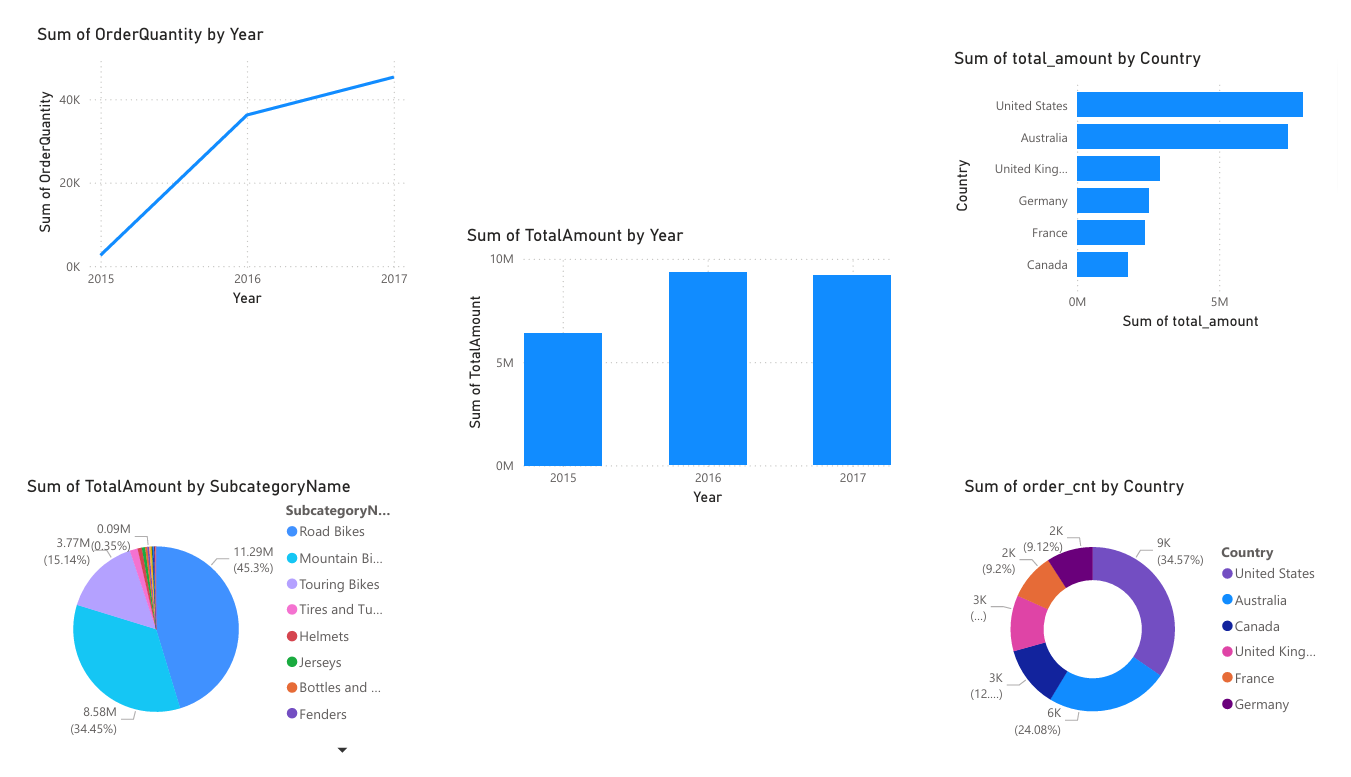

This screenshot's page, from the dashboard's own definition file:
{"tool":"powerbi","page":{"name":"Page 1","canvas":[1280,720],"ordinal":0},"visuals":[{"type":"lineChart","fields":{"Category":["gold extsales.OrderDate.Variation.Date Hierarchy.Year","gold extsales.OrderDate.Variation.Date Hierarchy.Quarter","gold extsales.OrderDate.Variation.Date Hierarchy.Month","gold extsales.OrderDate.Variation.Date Hierarchy.Day"],"Y":["Sum(gold extsales.OrderQuantity)"]},"box":[9.6,0,370.5,279.9],"z":0},{"type":"columnChart","fields":{"Category":["gold extsales.Year"],"Y":["Sum(gold extsales.TotalAmount)"]},"box":[428,195.7,423.1,278.8],"z":1},{"type":"pieChart","fields":{"Category":["gold extsales.SubcategoryName"],"Y":["Sum(gold extsales.TotalAmount)"]},"box":[0,440.5,370.5,279.9],"z":2},{"type":"donutChart","fields":{"Category":["gold summ_country.Country"],"Y":["Sum(gold summ_country.order_cnt)"]},"box":[912.2,440.2,368.1,280],"z":3},{"type":"barChart","fields":{"Category":["gold summ_country.Country"],"Y":["Sum(gold summ_country.total_amount)"]},"box":[901.5,23.3,360.9,279.9],"z":4}]}

Visuals, with their boxes in screenshot pixels (x1, y1, x2, y2), scaled from the page's 1280x720 canvas onto the 1351x777 screenshot:
lineChart - gold extsales.OrderDate.Variation.Date Hierarchy.Year x gold extsales.OrderDate.Variation.Date Hierarchy.Quarter: 10 0 401 302
columnChart - gold extsales.Year x Sum(gold extsales.TotalAmount): 452 211 898 512
pieChart - gold extsales.SubcategoryName x Sum(gold extsales.TotalAmount): 0 475 391 776
donutChart - gold summ_country.Country x Sum(gold summ_country.order_cnt): 963 475 1350 776
barChart - gold summ_country.Country x Sum(gold summ_country.total_amount): 952 25 1332 327
